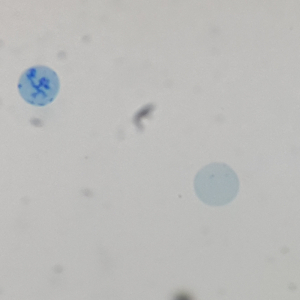aggregate reticulocyte: (15, 63, 62, 108)
punctate reticulocyte: (191, 160, 241, 209)
